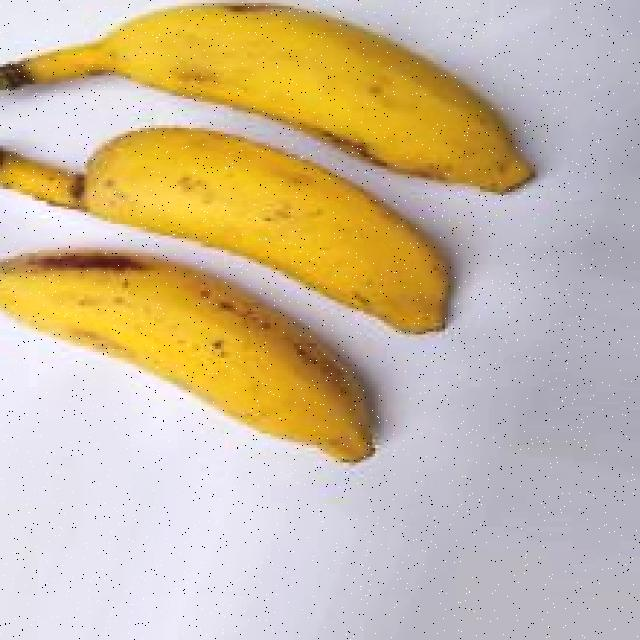banana: (49, 110, 516, 360), (0, 229, 428, 492), (70, 2, 590, 212)
